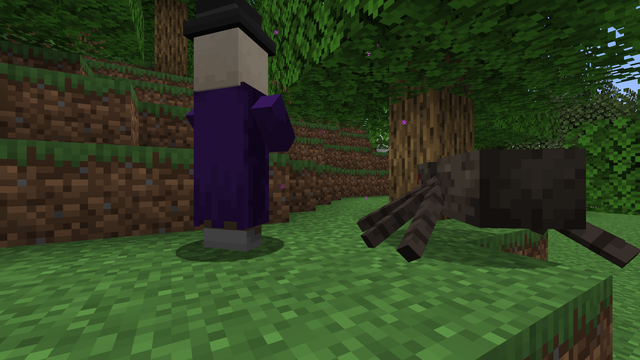araignees: (362, 134, 585, 279)
sorcieres: (195, 9, 274, 258)
